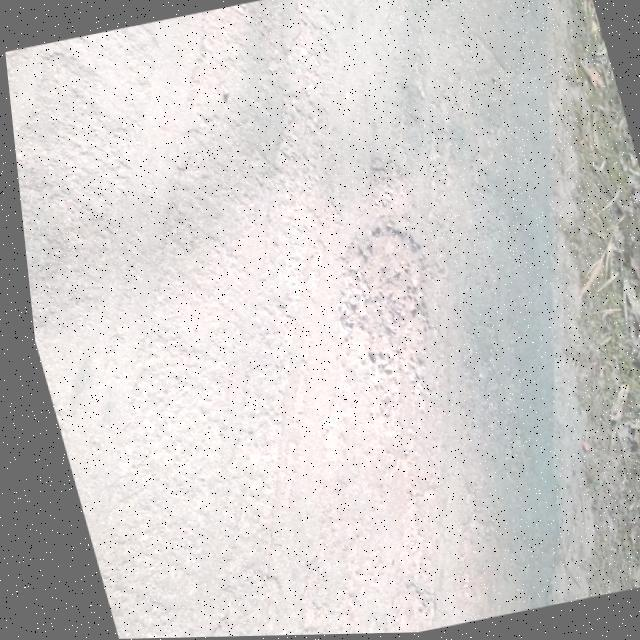pothole: (302, 217, 458, 413)
